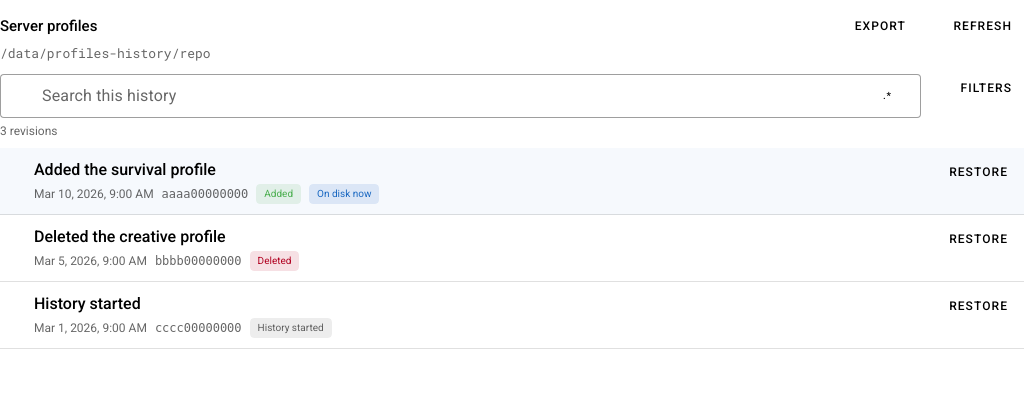
Test: filters start collapsed and compose › hides the date range and action chips until the Filters toggle is pressed
The image size is (1036, 400).
Click the button "Filters" at (976, 88), box [929,74,1024,102]
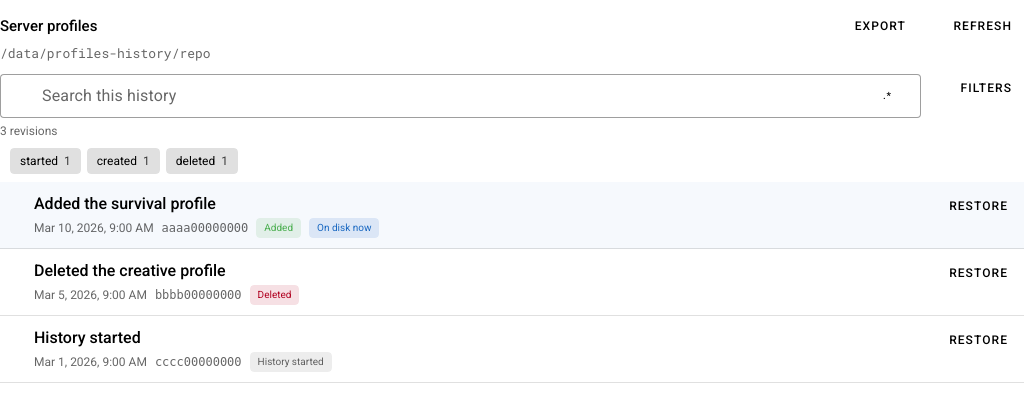
Expected: the element with class "mb-simple-history__filters" is shown, [10,148,238,174]
